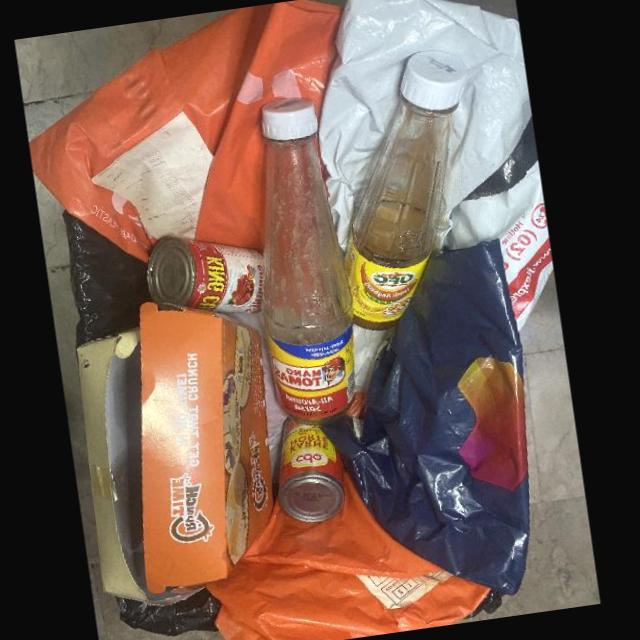carton: (77, 303, 274, 607)
chai_thuy_tinh: (345, 49, 468, 331), (261, 99, 355, 422)
nhom: (147, 236, 264, 314), (278, 417, 346, 523)
tui_ni_long: (29, 0, 342, 263), (319, 0, 554, 332), (318, 240, 530, 598), (206, 476, 491, 640)
